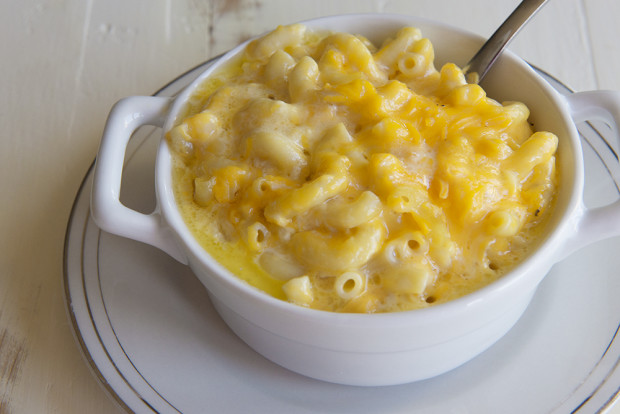macncheese: (155, 9, 565, 313)
